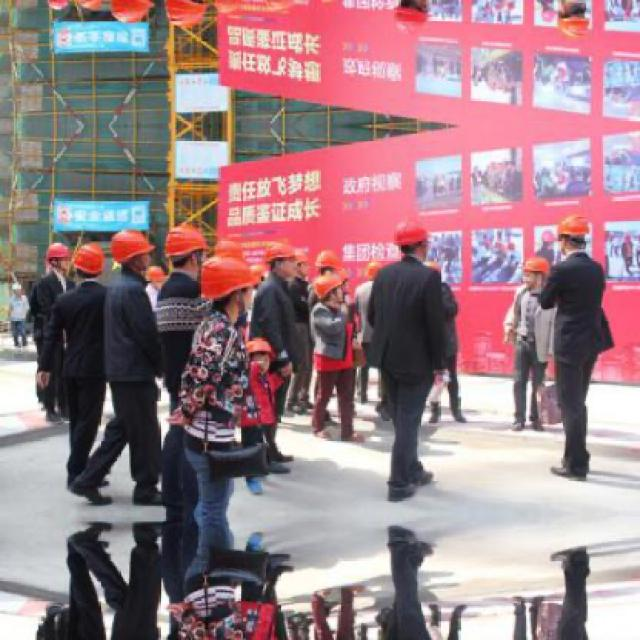helmet: (205, 252, 257, 320), (389, 214, 434, 263), (108, 231, 152, 272), (164, 228, 204, 272), (259, 238, 303, 278), (388, 0, 434, 37), (556, 212, 592, 257), (242, 331, 272, 382), (555, 0, 593, 38), (74, 242, 109, 280), (522, 250, 556, 288), (316, 272, 346, 306), (43, 240, 72, 274), (165, 0, 206, 23), (106, 0, 152, 20), (314, 246, 338, 277), (257, 0, 303, 12), (72, 0, 110, 9), (42, 0, 72, 11)
